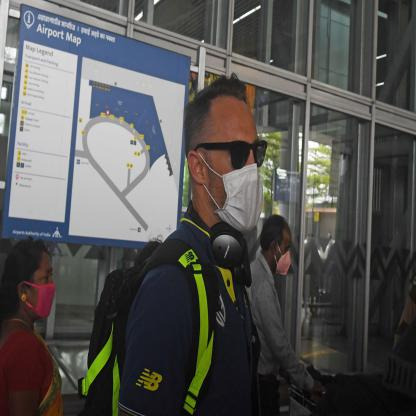Wearing_Mask: (209, 106, 262, 231), (25, 260, 56, 324), (273, 226, 293, 277)
